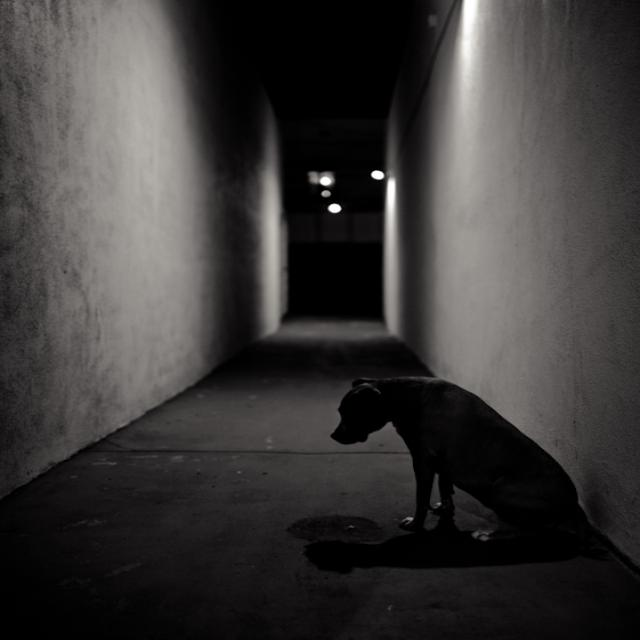Dog: (318, 392, 640, 594)
